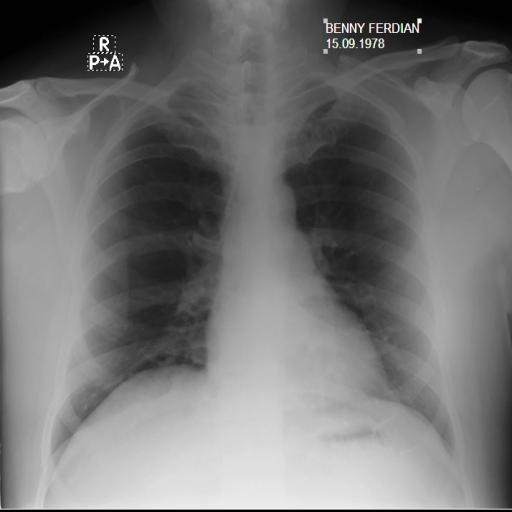normal: (36, 34, 466, 486)
